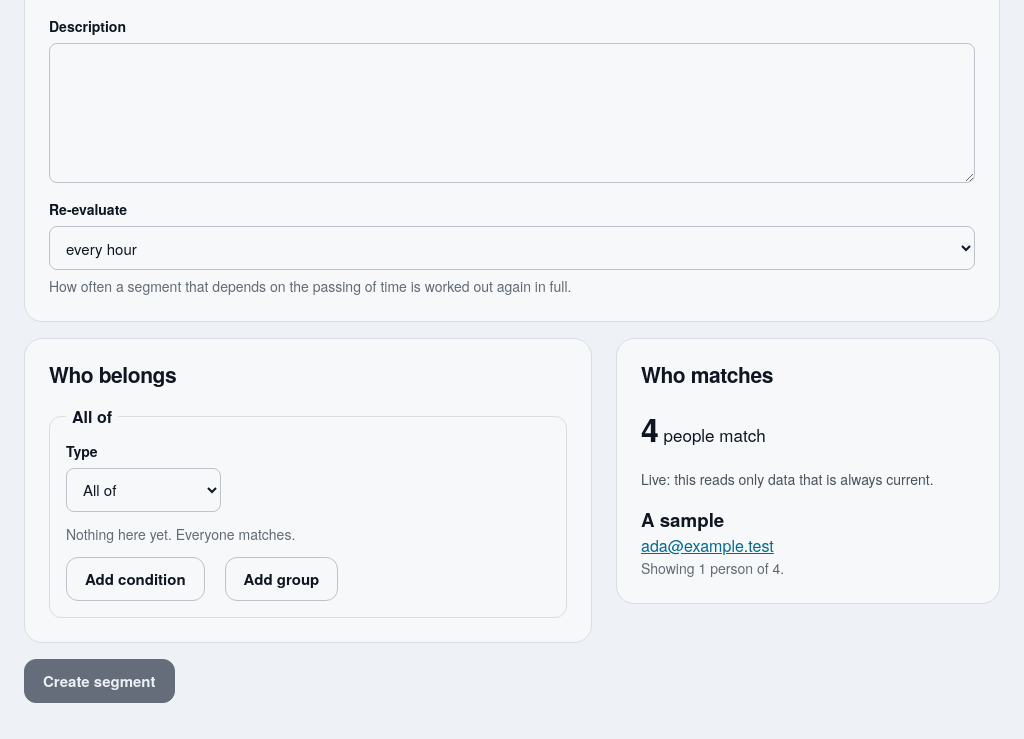
Test: live count › marks the conditions a refused definition names instead of showing a count
(page scrolled)
Expected: the element showing "4 people match" is shown, top-left (641, 406), bottom-right (766, 452)
Click the button named "Add condition to All of": {"x": 135, "y": 579} top-left (66, 557), bottom-right (205, 601)
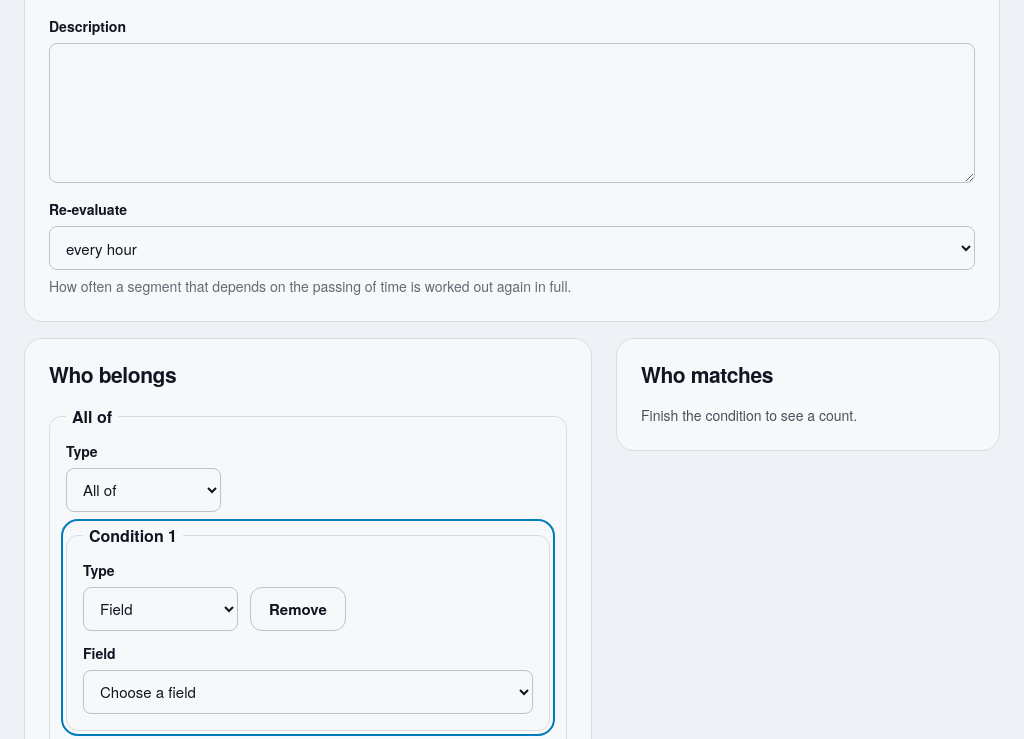
Select "city" in the dropdown labelled "Field": {"x": 308, "y": 692} top-left (83, 670), bottom-right (533, 714)
(page scrolled)
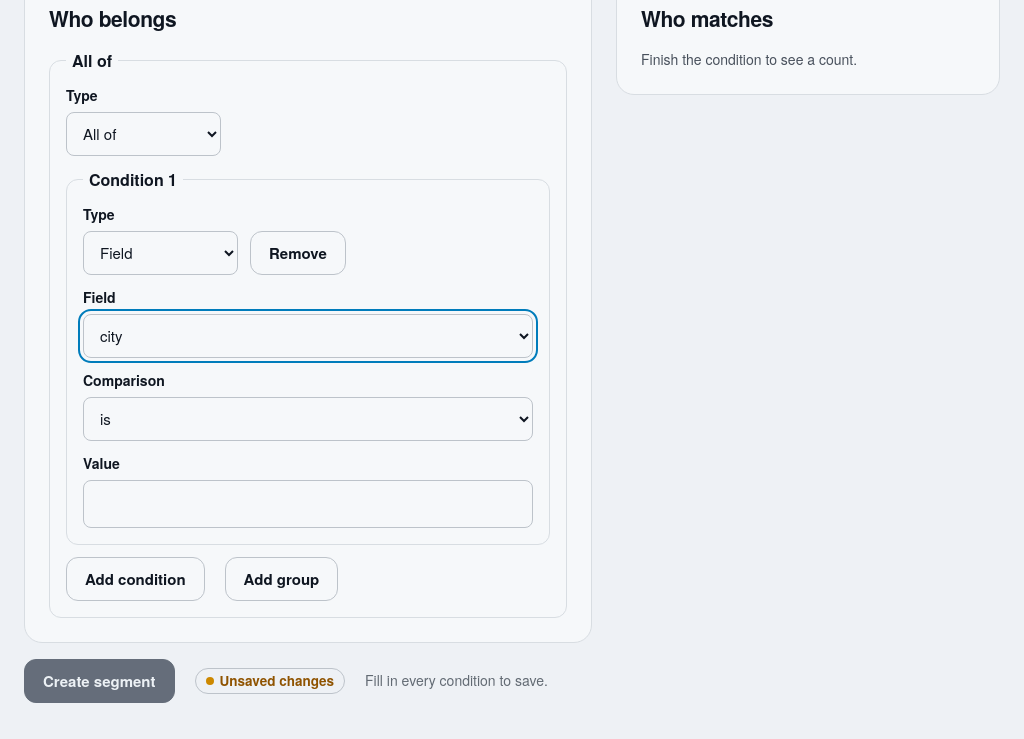
In the field labelled "Value": {"x": 308, "y": 504} top-left (83, 480), bottom-right (533, 528), type "Aarhus"
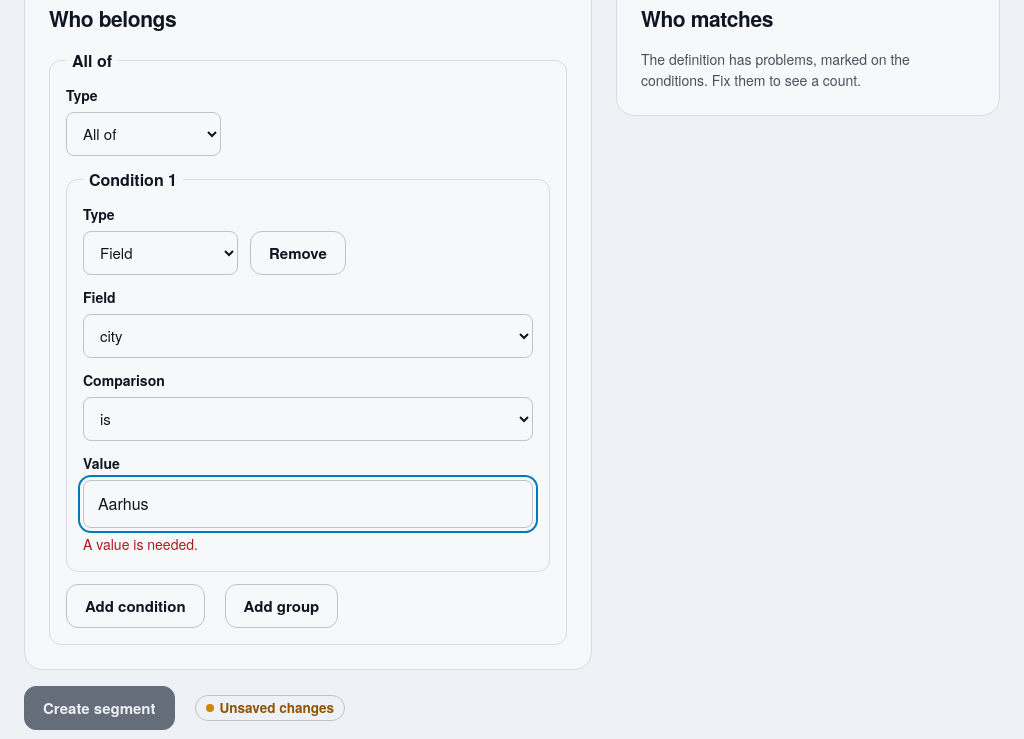
Result: the text "The definition has problems, marked on the conditions. Fix them to see a count." is shown at top-left (641, 49), bottom-right (910, 90)
